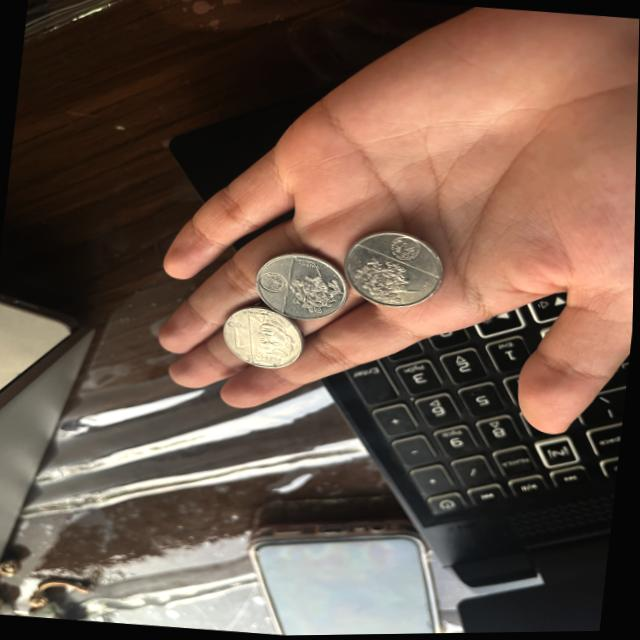1_New_Back: (351, 252, 422, 308), (287, 262, 344, 317)
1_New_Front: (222, 315, 253, 356)
